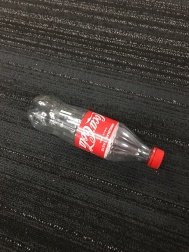bottle_red: (17, 84, 173, 181)
